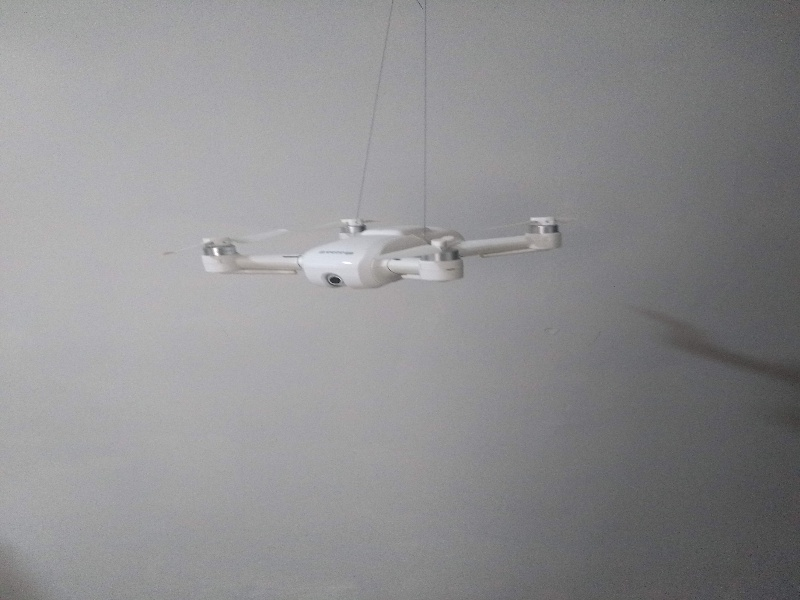drone: (189, 184, 575, 302)
